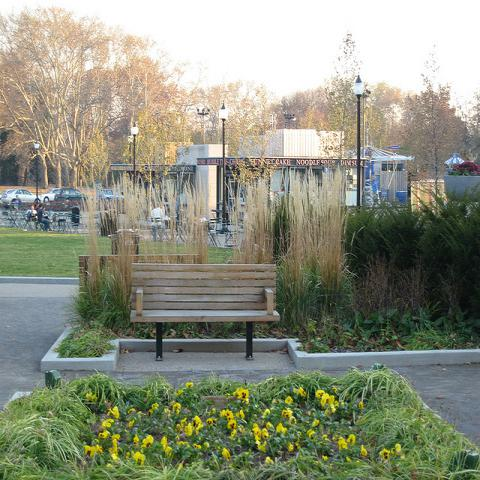car: (1, 189, 42, 208), (55, 188, 94, 202), (40, 187, 60, 203), (103, 189, 114, 200)
